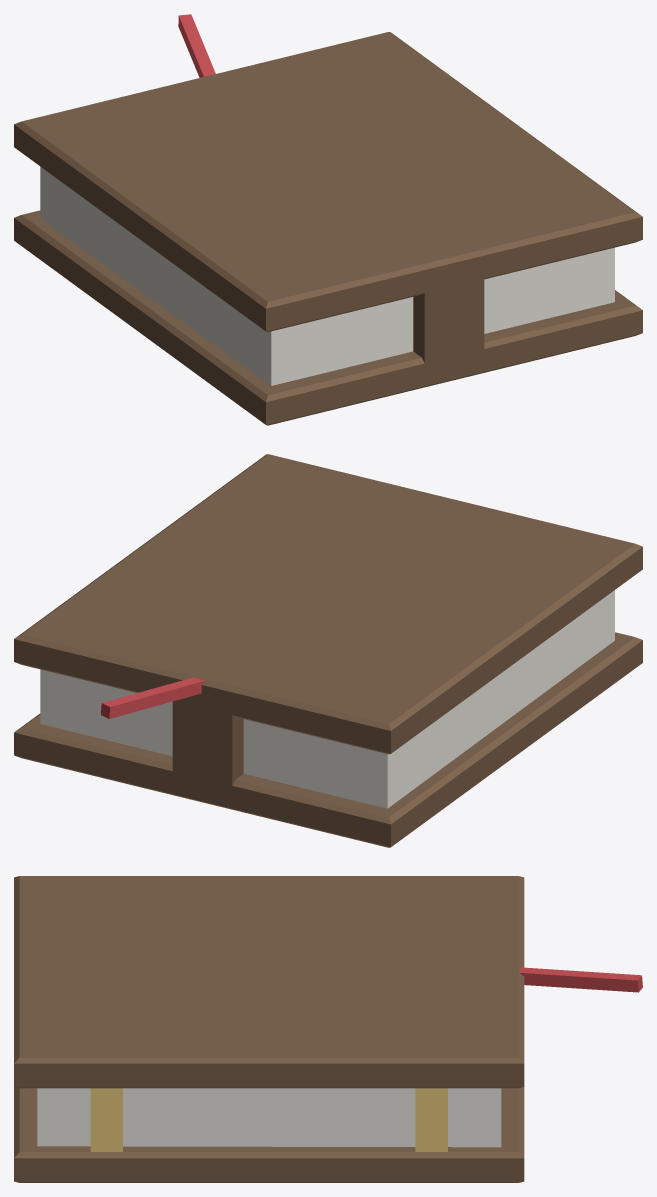
Rendered from grimoire.glb.
3 views of the same model, one above another, from view 1: azimuth 30°, elevation 25°; view 2: azimuth 150°, elevation 25°; view 3: azimuth 270°, elevation 25° (orthographic).
Parts seen in each view (by area): view 1: grimoire; view 2: grimoire; view 3: grimoire.
Boxes of the visible parts, bbox=[...] form: grimoire: bbox=[14, 14, 642, 425]; grimoire: bbox=[14, 454, 642, 847]; grimoire: bbox=[14, 876, 642, 1182].
Bounding box in the file's own units: 0.38 × 0.1272 × 0.5422.
